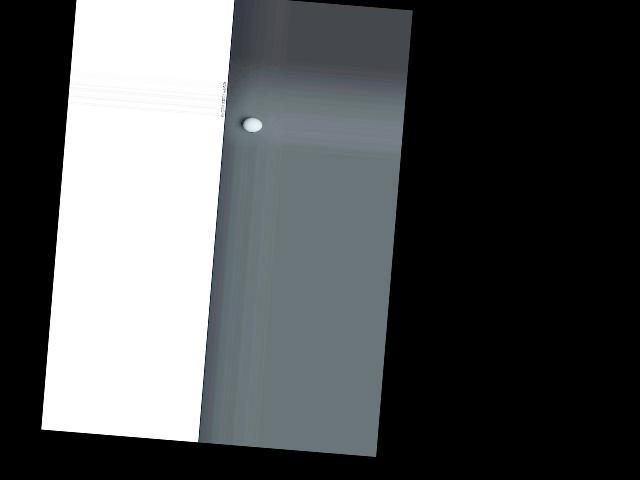egg: (242, 116, 262, 133)
